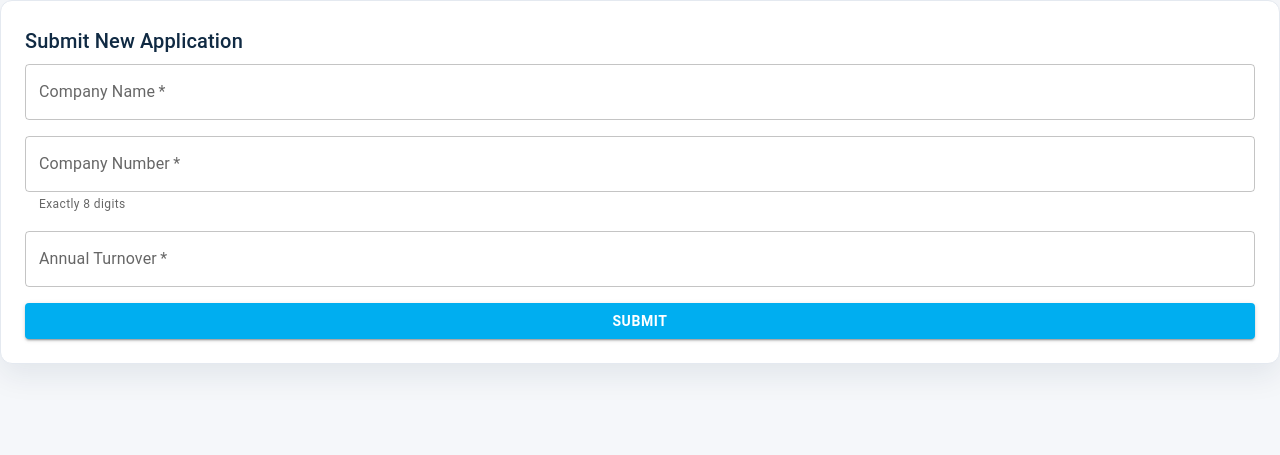
Test: ApplicationForm › submits form and shows success
The image size is (1280, 455).
Type "Acme Corp" into the field labelled "Company Name *".
click(640, 92); type("Acme Corp")  # box [25,64,1255,120]
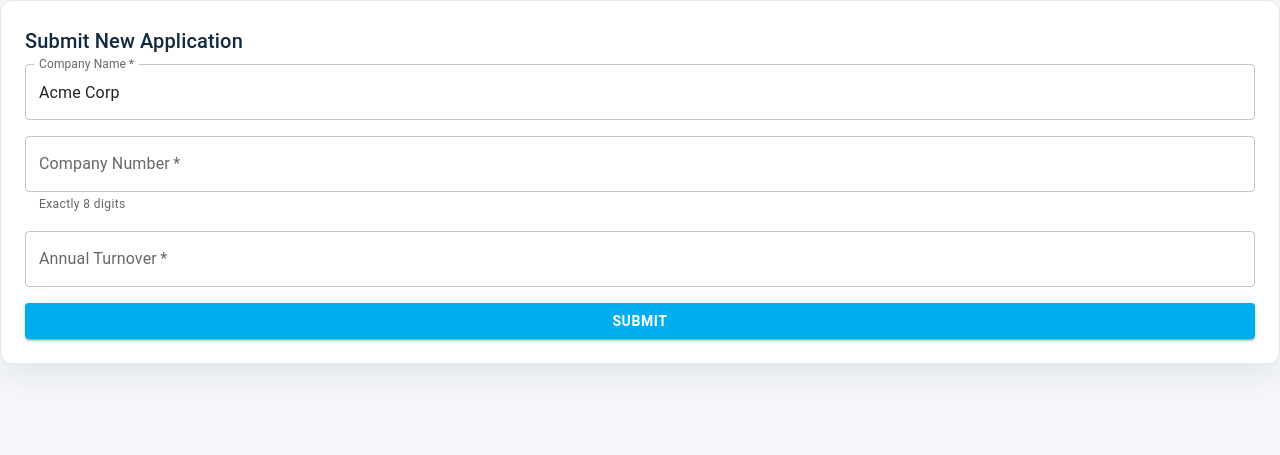
Type "12345678" into the field labelled "Company Number *".
click(640, 164); type("12345678")  # box [25,136,1255,192]
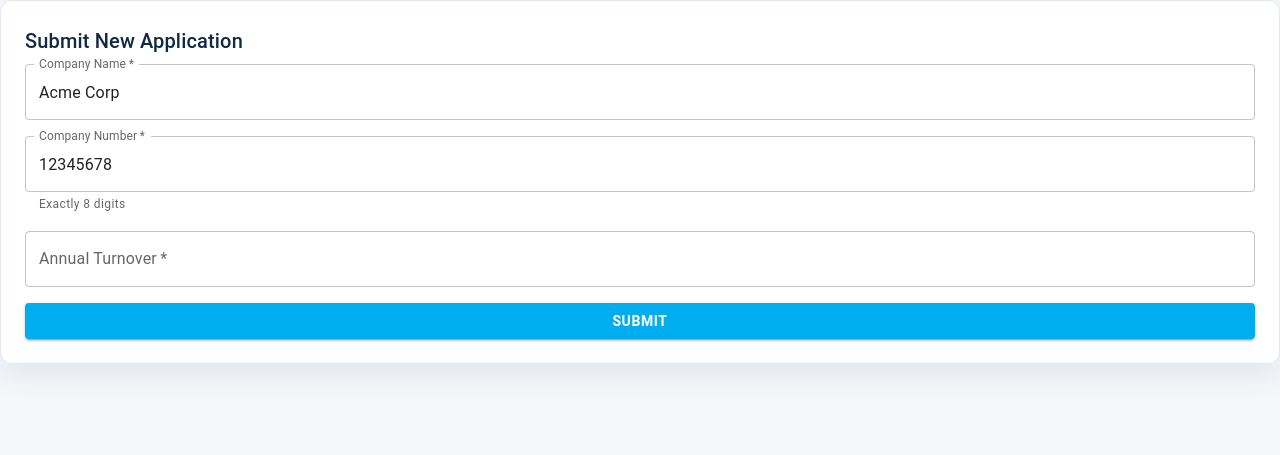
Type "1000" into the number field labelled "Annual Turnover *".
click(640, 259); type("1000")  # box [25,231,1255,287]
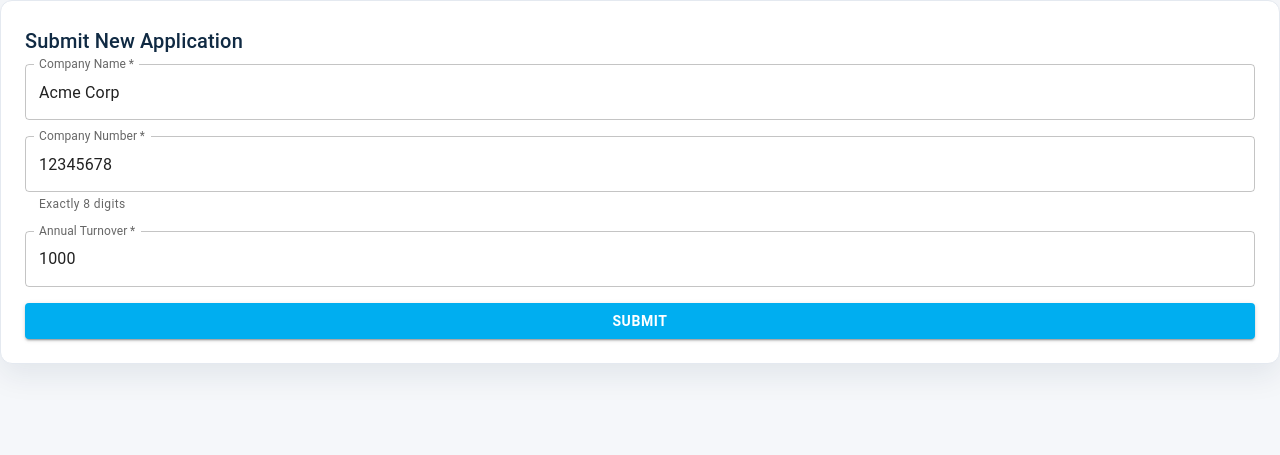
Click the button "Submit".
click(640, 321)  # box [25,303,1255,339]
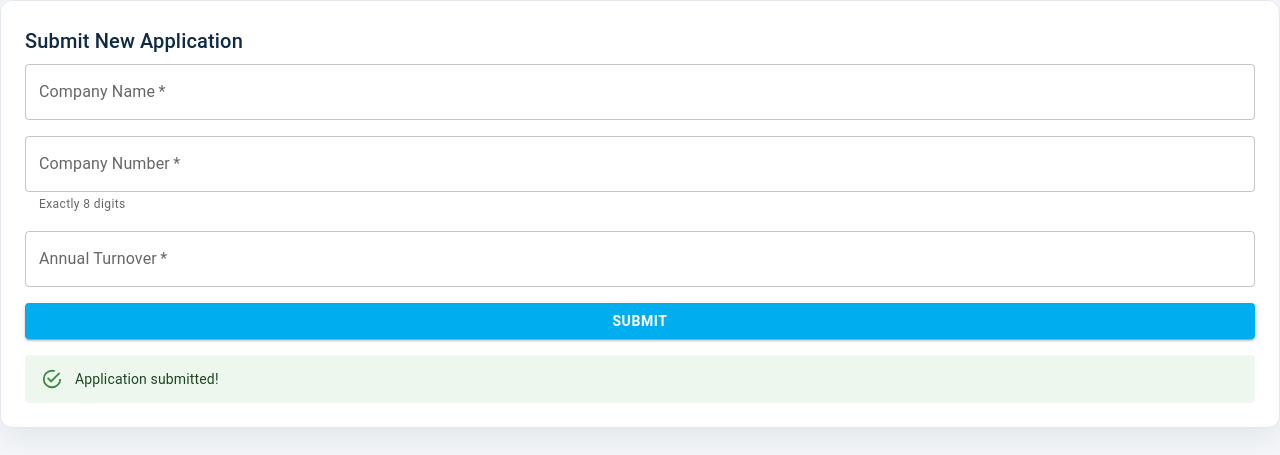
Expected: the text "Application submitted!" is shown, [75,371,219,387]
